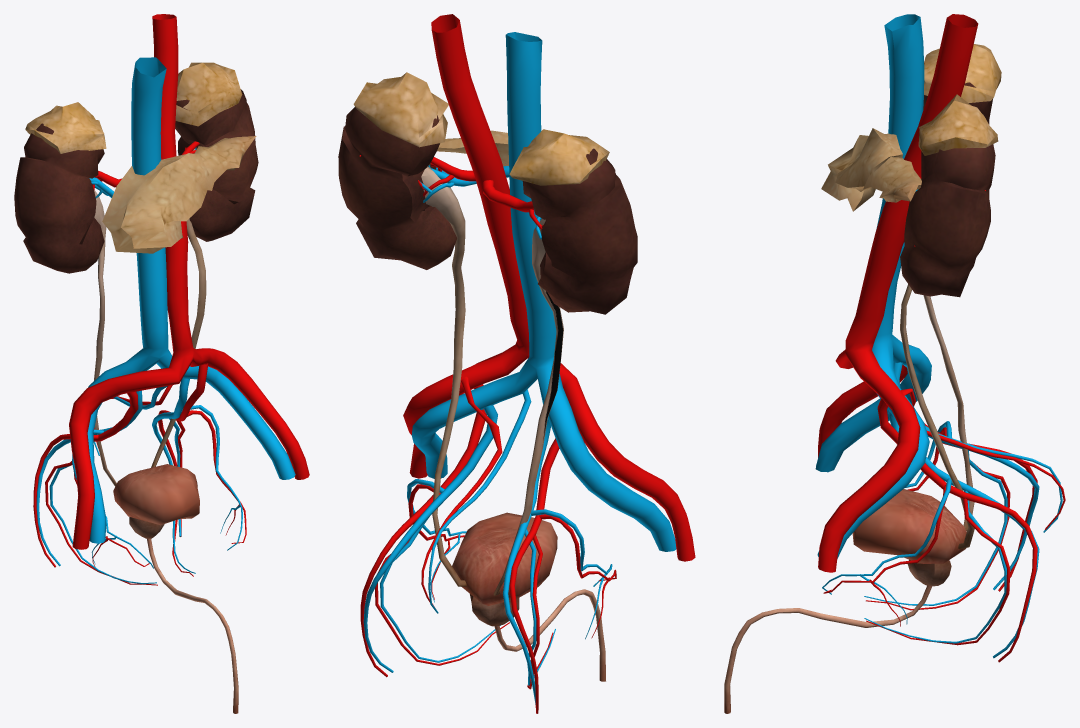
The model's file is urinary.fbx.
3 views of the same model, side by side, from view 1: azimuth 30°, elevation 25°; view 2: azimuth 150°, elevation 25°; view 3: azimuth 270°, elevation 25° (orthographic). The views are drawn at different scales.
Parts seen in each view (by area): view 1: Male_Circulatory_Urinary_Arteries_Geo, Male_Circulatory_Urinary_Veins_Geo, Male_Urinary_Kidney_Geo_Right, Male_Endocrine_Pancreas_Geo, Male_Urinary_Kidney_Geo_Left, Male_Urinary_Bladder_Geo, Male_Endocrine_Adrenal_Gland_Geo_Left, Male_Endocrine_Adrenal_Gland_Geo_Right, Male_Urinary_Ureter_Geo_Right, Male_Urinary_Ureter_Geo_Left; view 2: Male_Circulatory_Urinary_Arteries_Geo, Male_Circulatory_Urinary_Veins_Geo, Male_Urinary_Kidney_Geo_Right, Male_Urinary_Kidney_Geo_Left, Male_Urinary_Bladder_Geo, Male_Endocrine_Adrenal_Gland_Geo_Left, Male_Urinary_Ureter_Geo_Left, Male_Endocrine_Adrenal_Gland_Geo_Right, Male_Urinary_Ureter_Geo_Right, Male_Reproductive_Prostate_Geo, Male_Endocrine_Pancreas_Geo; view 3: Male_Circulatory_Urinary_Arteries_Geo, Male_Circulatory_Urinary_Veins_Geo, Male_Urinary_Kidney_Geo_Left, Male_Urinary_Bladder_Geo, Male_Endocrine_Pancreas_Geo, Male_Endocrine_Adrenal_Gland_Geo_Left, Male_Endocrine_Adrenal_Gland_Geo_Right, Male_Urinary_Ureter_Geo_Left, Male_Urinary_Ureter_Geo_Right, Male_Reproductive_Prostate_Geo.
Boxes of the visible parts, left/top/right/bottom form: Male_Circulatory_Urinary_Arteries_Geo: left=33, top=14, right=309, bottom=585; Male_Circulatory_Urinary_Veins_Geo: left=36, top=57, right=295, bottom=584; Male_Urinary_Kidney_Geo_Right: left=14, top=123, right=104, bottom=273; Male_Endocrine_Pancreas_Geo: left=102, top=136, right=256, bottom=253; Male_Urinary_Kidney_Geo_Left: left=175, top=89, right=258, bottom=241; Male_Urinary_Bladder_Geo: left=113, top=464, right=238, bottom=713; Male_Endocrine_Adrenal_Gland_Geo_Left: left=175, top=62, right=242, bottom=126; Male_Endocrine_Adrenal_Gland_Geo_Right: left=25, top=102, right=106, bottom=153; Male_Urinary_Ureter_Geo_Right: left=94, top=190, right=116, bottom=486; Male_Urinary_Ureter_Geo_Left: left=151, top=149, right=206, bottom=467; Male_Circulatory_Urinary_Arteries_Geo: left=359, top=14, right=695, bottom=713; Male_Circulatory_Urinary_Veins_Geo: left=363, top=32, right=676, bottom=704; Male_Urinary_Kidney_Geo_Right: left=522, top=148, right=637, bottom=314; Male_Urinary_Kidney_Geo_Left: left=338, top=107, right=456, bottom=269; Male_Urinary_Bladder_Geo: left=452, top=512, right=605, bottom=681; Male_Endocrine_Adrenal_Gland_Geo_Left: left=353, top=72, right=448, bottom=147; Male_Urinary_Ureter_Geo_Left: left=421, top=166, right=466, bottom=586; Male_Endocrine_Adrenal_Gland_Geo_Right: left=509, top=129, right=609, bottom=185; Male_Urinary_Ureter_Geo_Right: left=493, top=218, right=563, bottom=595; Male_Reproductive_Prostate_Geo: left=470, top=594, right=519, bottom=626; Male_Endocrine_Pancreas_Geo: left=437, top=130, right=508, bottom=166; Male_Circulatory_Urinary_Arteries_Geo: left=818, top=14, right=1065, bottom=662; Male_Circulatory_Urinary_Veins_Geo: left=815, top=14, right=1062, bottom=658; Male_Urinary_Kidney_Geo_Left: left=900, top=144, right=995, bottom=297; Male_Urinary_Bladder_Geo: left=724, top=489, right=966, bottom=713; Male_Endocrine_Pancreas_Geo: left=821, top=128, right=921, bottom=211; Male_Endocrine_Adrenal_Gland_Geo_Left: left=918, top=94, right=998, bottom=155; Male_Endocrine_Adrenal_Gland_Geo_Right: left=924, top=44, right=1001, bottom=102; Male_Urinary_Ureter_Geo_Left: left=900, top=284, right=974, bottom=549; Male_Urinary_Ureter_Geo_Right: left=923, top=295, right=974, bottom=531; Male_Reproductive_Prostate_Geo: left=907, top=560, right=951, bottom=586.
Bounding box in the file's own units: 18.73 × 46.15 × 20.05.
8 materials, 6 textured.
